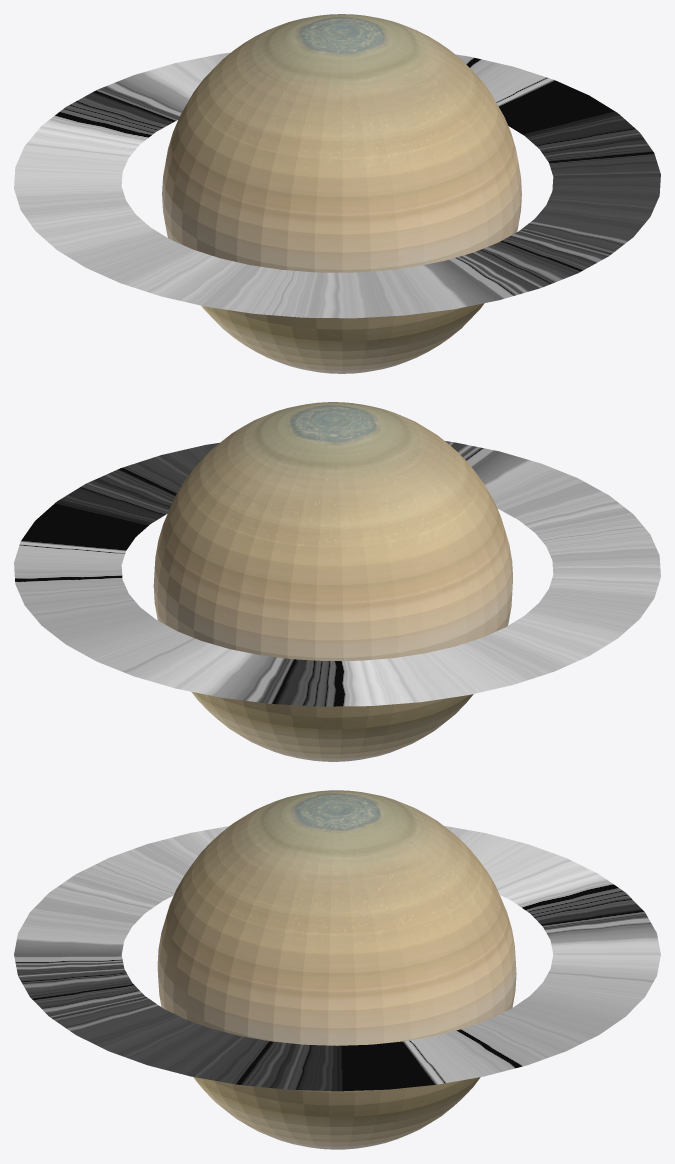
File: Saturne.glb
The picture shows the model from 3 angles, top to bottom: view 1: azimuth 30°, elevation 25°; view 2: azimuth 150°, elevation 25°; view 3: azimuth 270°, elevation 25°; orthographic projection.
Parts seen in each view (by area): view 1: Sphere_006, pPipe1; view 2: Sphere_006, pPipe1; view 3: Sphere_006, pPipe1.
Part boxes in pixels (left/top/right/bottom): Sphere_006: left=162, top=14, right=521, bottom=373; pPipe1: left=14, top=52, right=660, bottom=318; Sphere_006: left=153, top=402, right=512, bottom=761; pPipe1: left=14, top=441, right=660, bottom=706; Sphere_006: left=157, top=790, right=516, bottom=1149; pPipe1: left=14, top=826, right=660, bottom=1091.
Bounding box in the file's own units: 6.65 × 3.67 × 6.65.
3 materials, 3 textured.
